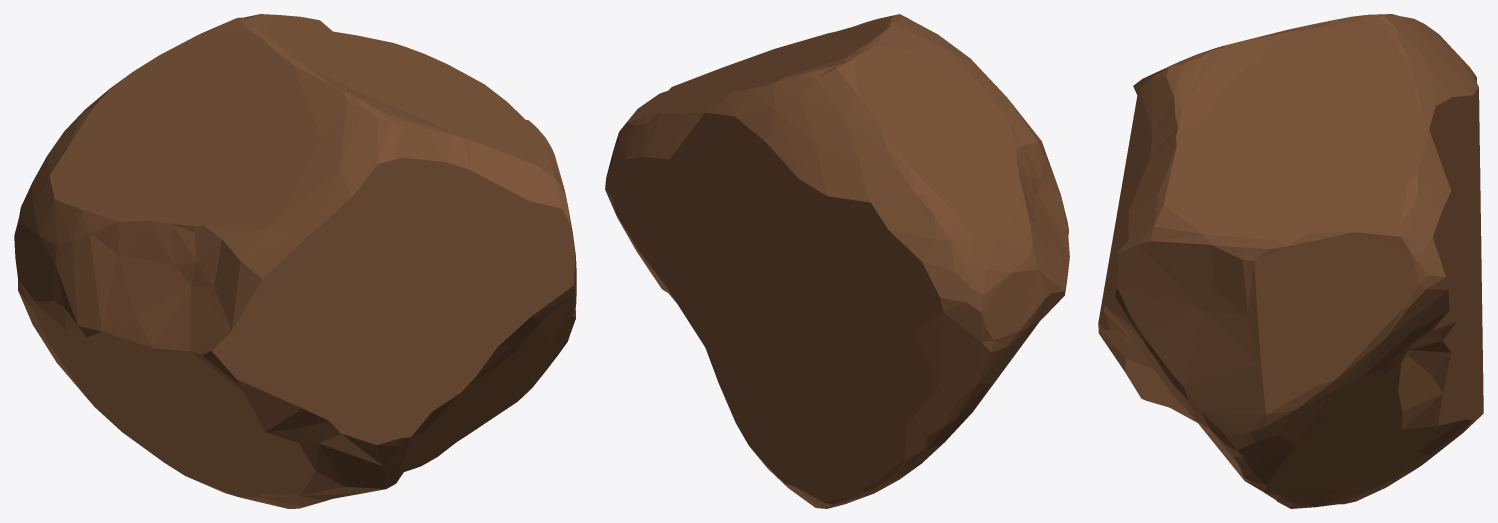
File: Rock3.fbx
3 views of the same model, side by side, from view 1: azimuth 30°, elevation 25°; view 2: azimuth 150°, elevation 25°; view 3: azimuth 270°, elevation 25° (orthographic). The views are drawn at different scales.
Visible parts, largest first — view 1: Rock3; view 2: Rock3; view 3: Rock3.
Boxes of the visible parts, <box> form: Rock3: <box>14,14,576,508</box>; Rock3: <box>605,14,1069,508</box>; Rock3: <box>1098,14,1483,508</box>.
Bounding box in the file's own units: 394 × 384 × 290.
